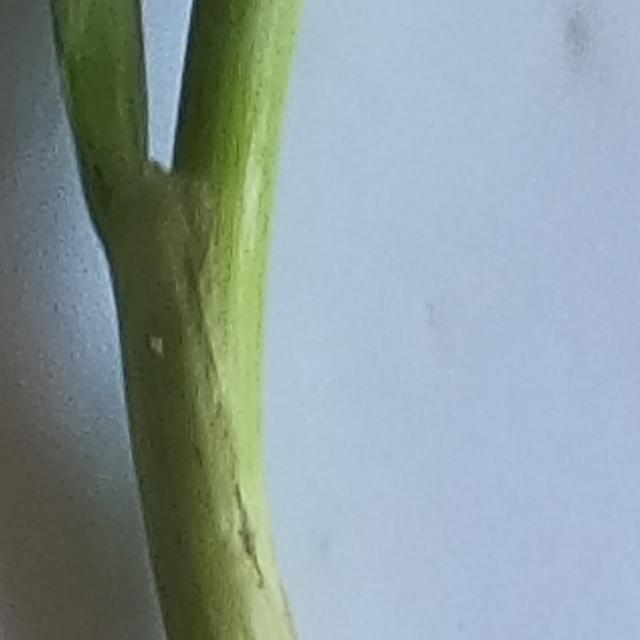green_onion: (47, 0, 322, 640)
